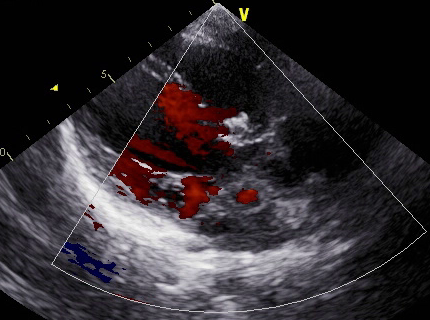AR: (158, 115, 242, 180)
